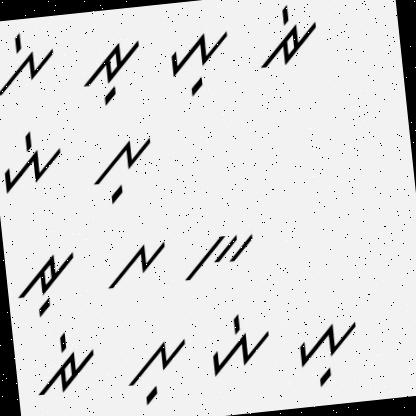la: (98, 235, 173, 292)
le: (0, 25, 61, 98)
lu: (87, 130, 163, 210), (121, 332, 193, 411)
re: (27, 326, 104, 402), (252, 0, 322, 76)
ru: (10, 240, 83, 324), (78, 32, 146, 110)
ye: (198, 312, 274, 380), (0, 125, 69, 199)
yu: (292, 316, 367, 391), (164, 26, 236, 102)
